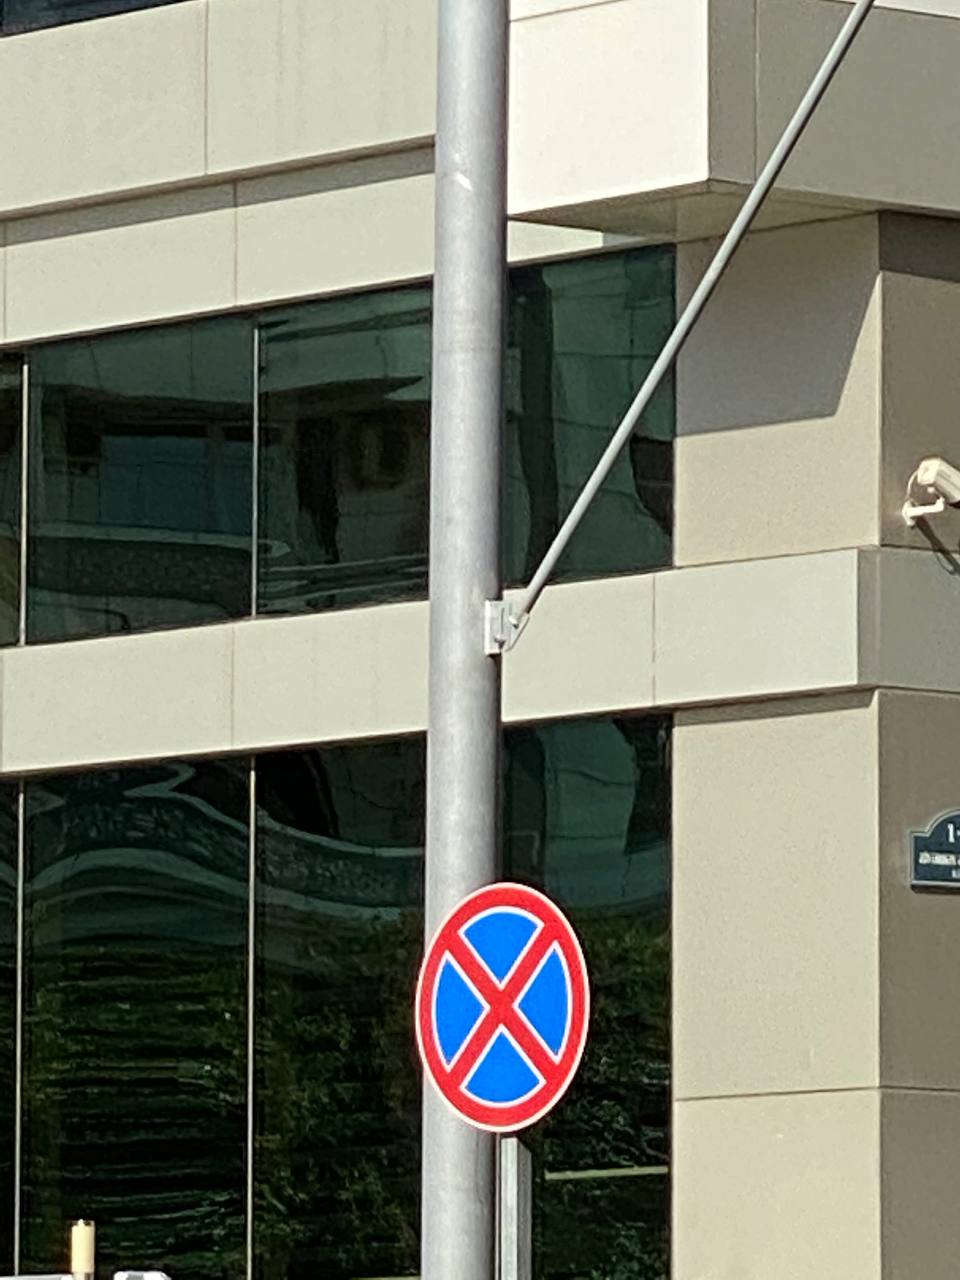No Parking: (413, 882, 590, 1131)
